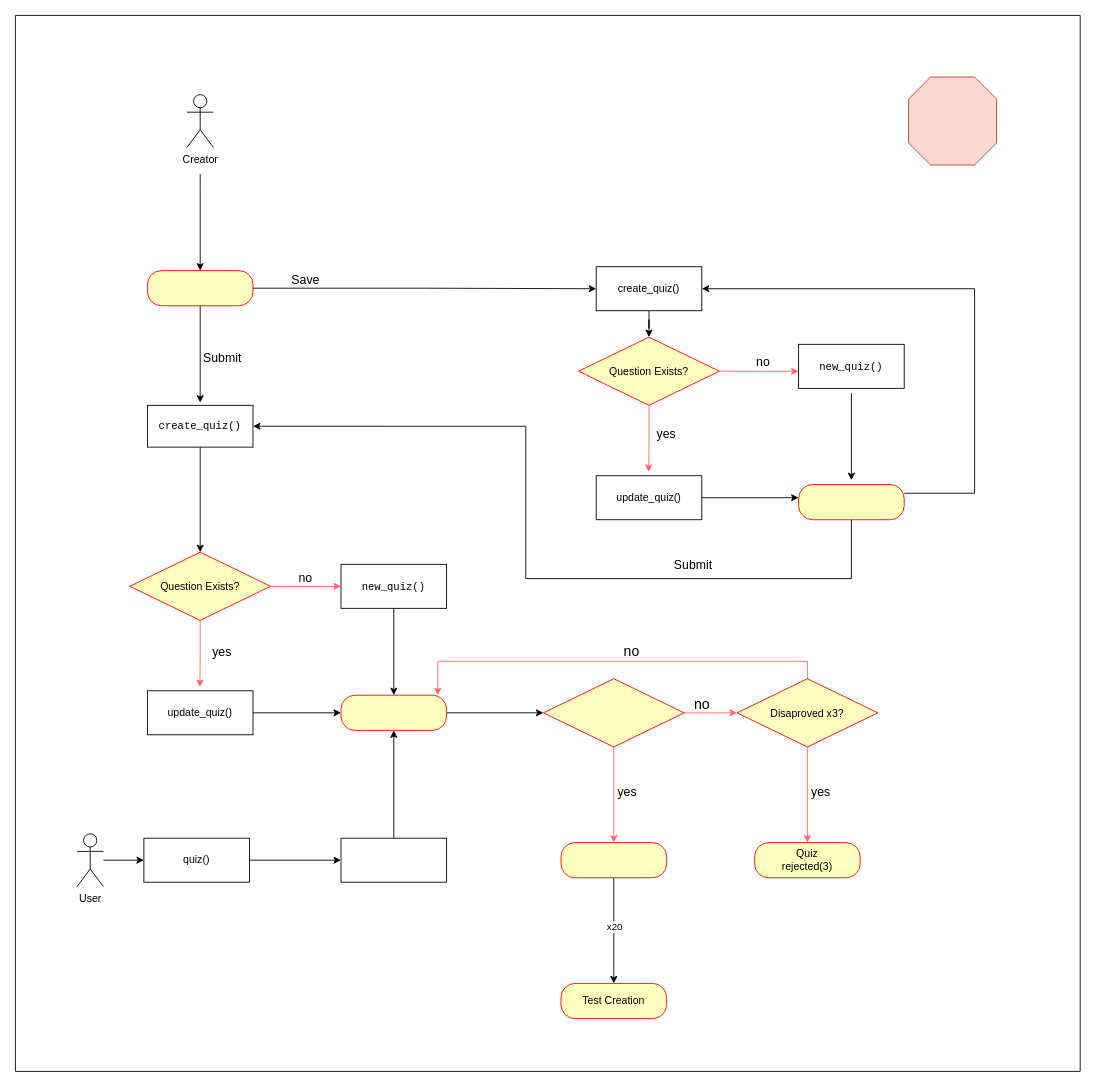
The diagram is 1096 pixels wide and 1087 high, and some of its shapes have lost their labels. The centre of each missing label's shape, as x and y in pixels:
Aproved x3?: the point at 613,712
Quiz = Question: the point at 952,120
Quiz accepted(4): the point at 613,860
Quiz Creation: the point at 200,288
Quiz in_evaluation(2): the point at 393,712
Quiz not_submitted(1): the point at 851,502
vote(): the point at 393,859
